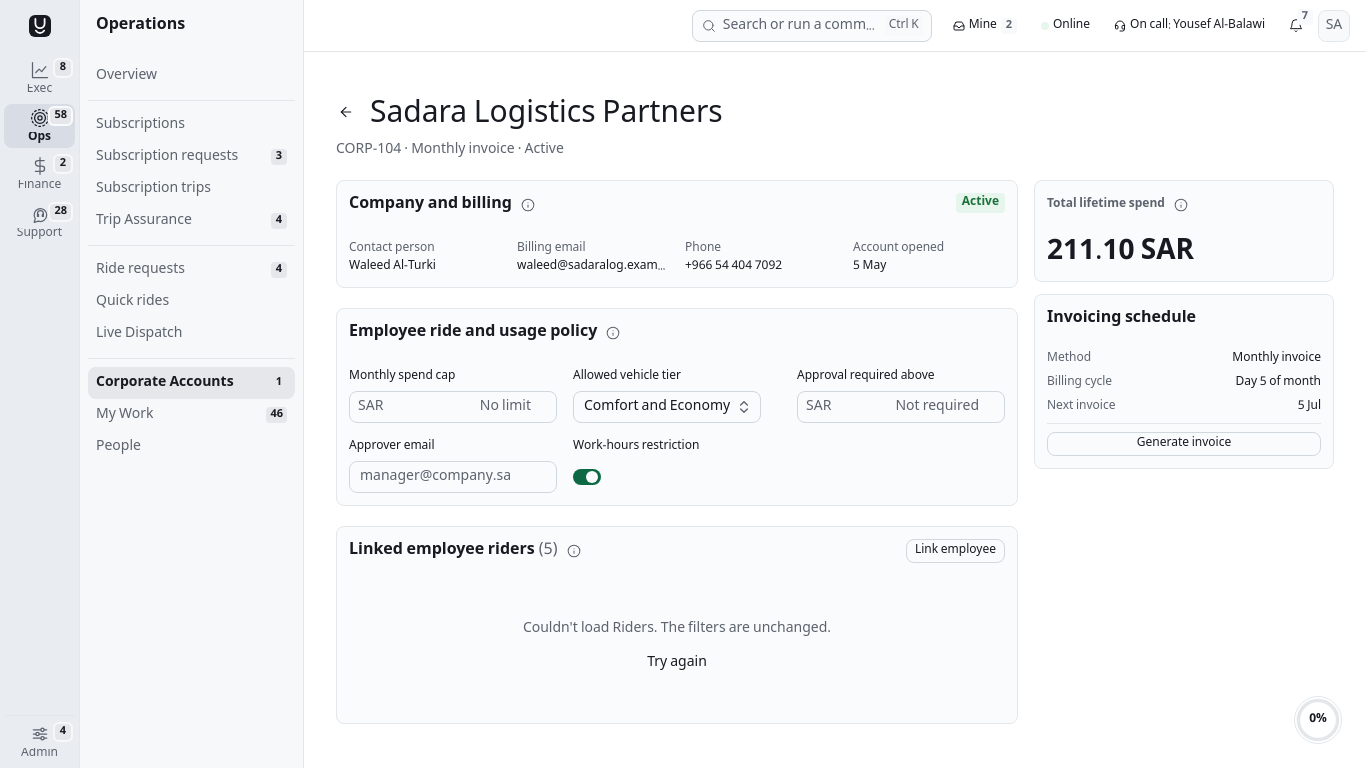
CorporateDetailScreen — the linked-employee card reads riders through the seam › AC-24 — a failed rider read renders a card error with a working retry
Expected: the heading "Sadara Logistics Partners" is shown, x1=370 y1=96 x2=723 y2=136
Step 1. Click the button "Try again" → (677, 663), box x1=636 y1=647 x2=718 y2=679
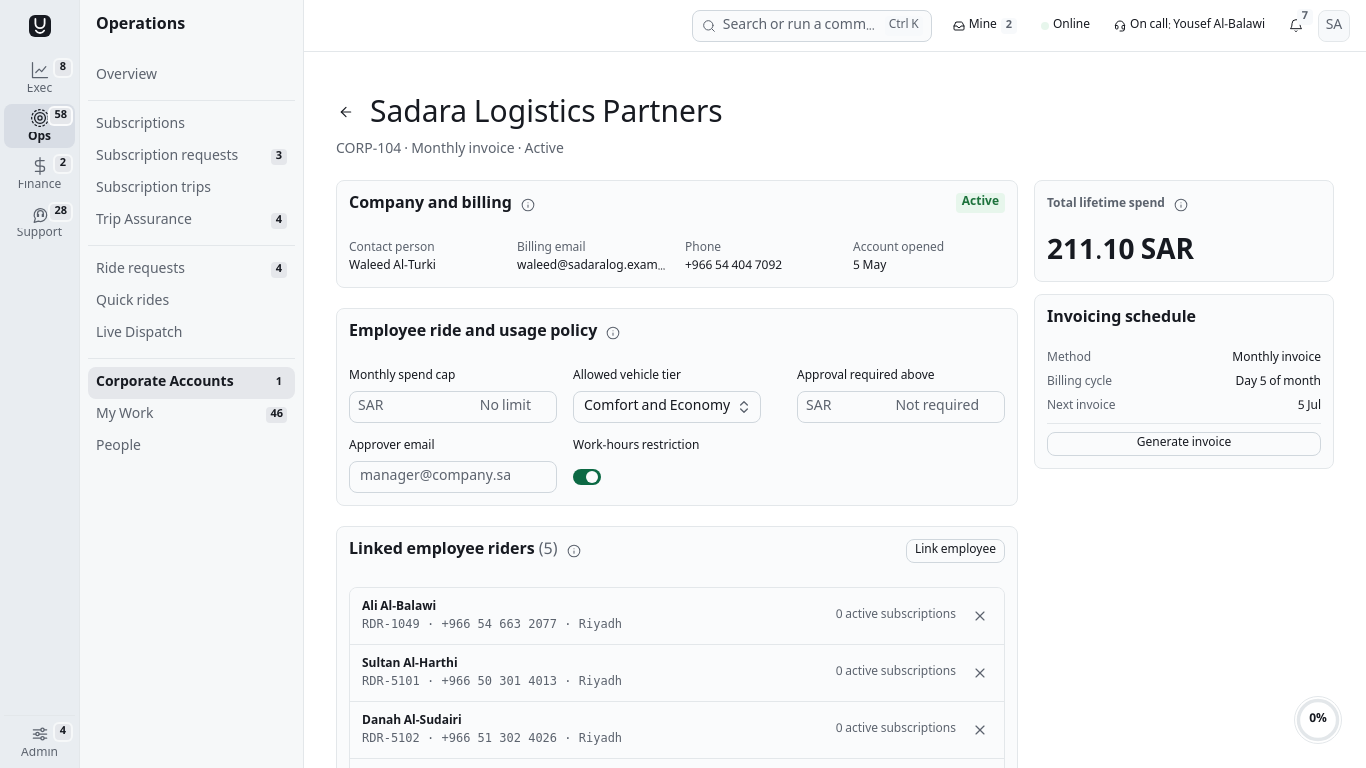
Now the text "RDR-1049" is shown, box x1=362 y1=617 x2=622 y2=631
